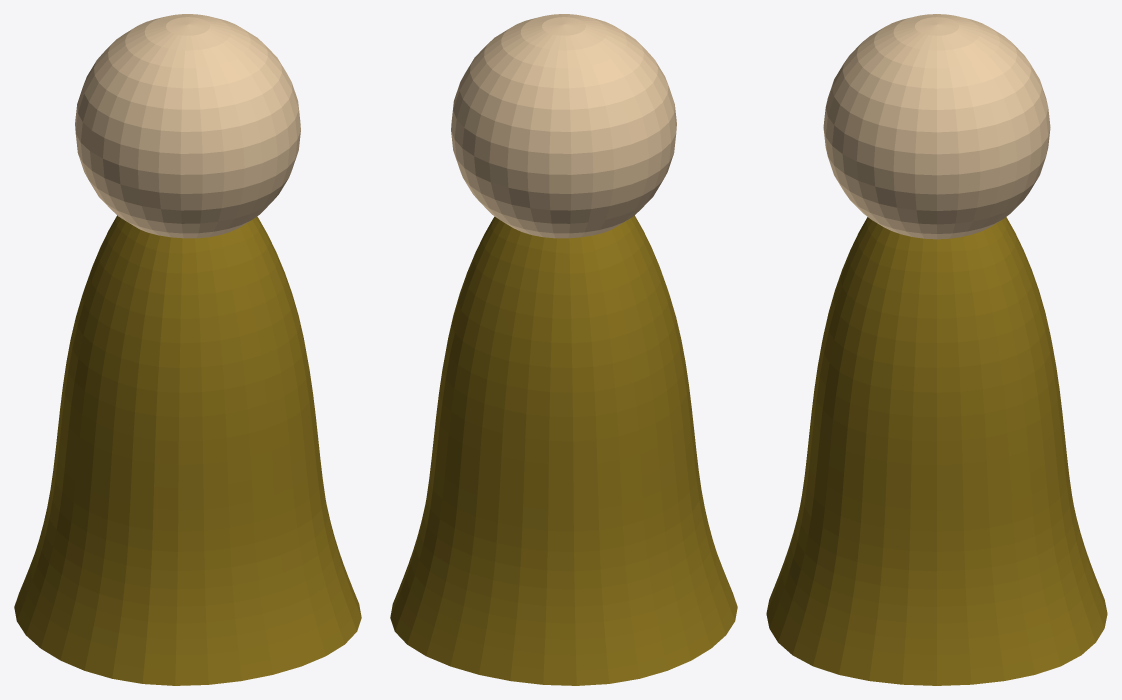
3 views of the same model, side by side, from view 1: azimuth 30°, elevation 25°; view 2: azimuth 150°, elevation 25°; view 3: azimuth 270°, elevation 25° (orthographic).
Parts seen in each view (by area): view 1: SM_Sphere; view 2: SM_Sphere; view 3: SM_Sphere.
Part boxes in pixels (x1,y1,x2,y2): SM_Sphere: (14, 14, 361, 685); SM_Sphere: (390, 14, 737, 685); SM_Sphere: (766, 14, 1107, 685).
Bounding box in the file's own units: 1.26 × 1.26 × 2.41.
